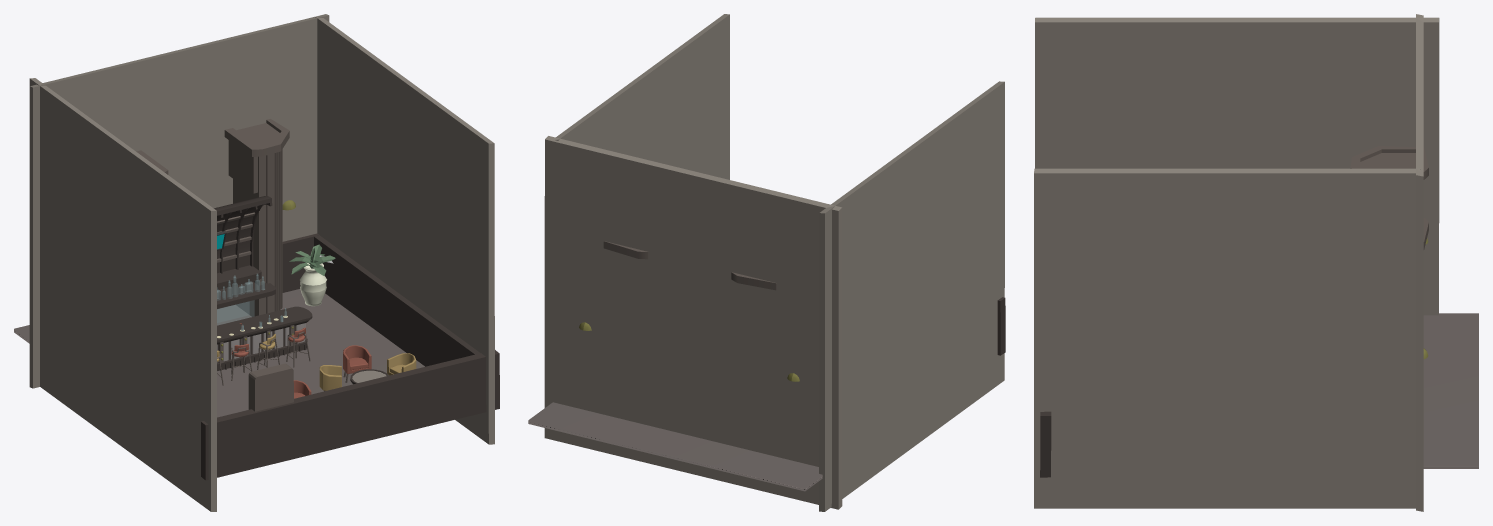
File: Bar Interior.fbx
3 renders of one model, left to right at view 1: azimuth 30°, elevation 25°; view 2: azimuth 150°, elevation 25°; view 3: azimuth 270°, elevation 25°, orthographic. The views are drawn at different scales.
Parts seen in each view (by area): view 1: pasted__pasted__pCube98 (×3), pasted__pCube98 (×2), Floor, Pillar_Right1, pCube77, pasted__pCube99, Bar_Top, pCube99, pCube88, pasted__pasted__pCylinder57, pCube79, Bar_Bottom5 (+2 smaller); view 2: pasted__pasted__pCube98 (×2), pasted__pCube98, Floor; view 3: pasted__pasted__pCube98 (×2), pasted__pCube98 (×2), Floor, Pillar_Right.
Part boxes in pixels (bbox=[...]): pasted__pasted__pCube98 (×3): bbox=[29, 14, 494, 444]; pasted__pCube98 (×2): bbox=[29, 78, 499, 511]; Floor: bbox=[14, 289, 424, 417]; Pillar_Right1: bbox=[224, 119, 289, 316]; pCube77: bbox=[214, 196, 272, 273]; pasted__pCube99: bbox=[248, 363, 293, 411]; Bar_Top: bbox=[217, 306, 312, 344]; pCube99: bbox=[282, 233, 319, 292]; pCube88: bbox=[217, 281, 275, 308]; pasted__pasted__pCylinder57: bbox=[300, 263, 326, 306]; pCube79: bbox=[217, 265, 261, 289]; Bar_Bottom5: bbox=[217, 338, 307, 370]; pasted__pasted__pCube98 (×2): bbox=[544, 14, 842, 509]; pasted__pCube98: bbox=[819, 81, 1004, 511]; Floor: bbox=[528, 402, 822, 491]; pasted__pasted__pCube98 (×2): bbox=[1034, 14, 1423, 511]; pasted__pCube98 (×2): bbox=[1035, 17, 1439, 477]; Floor: bbox=[1423, 313, 1478, 468]; Pillar_Right: bbox=[1350, 146, 1428, 179].
Size of the model in its own units: 35.25 by 34.12 by 40.84.
